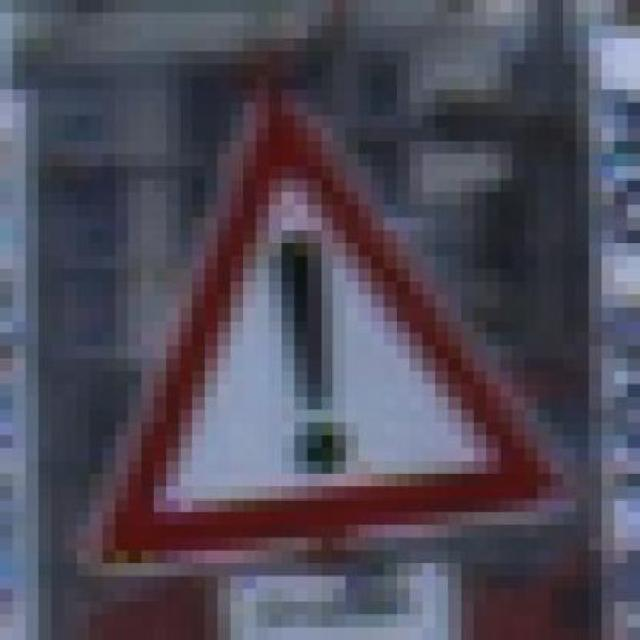Attention Please-: (76, 76, 576, 576)
